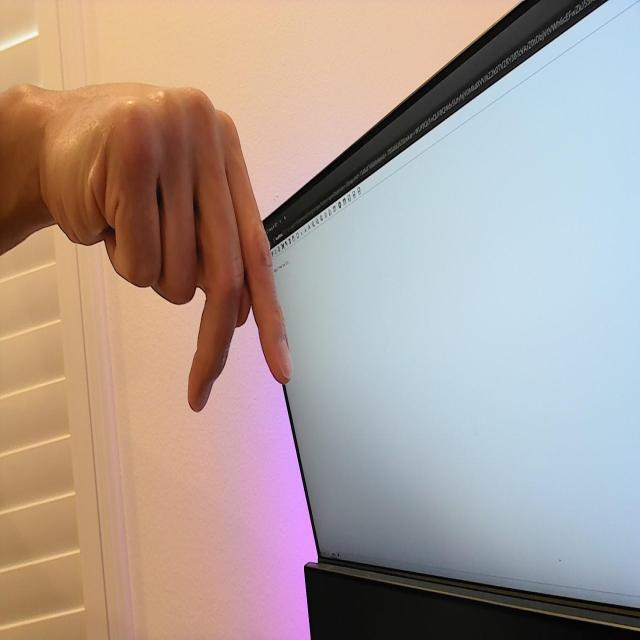P: (34, 69, 296, 418)
